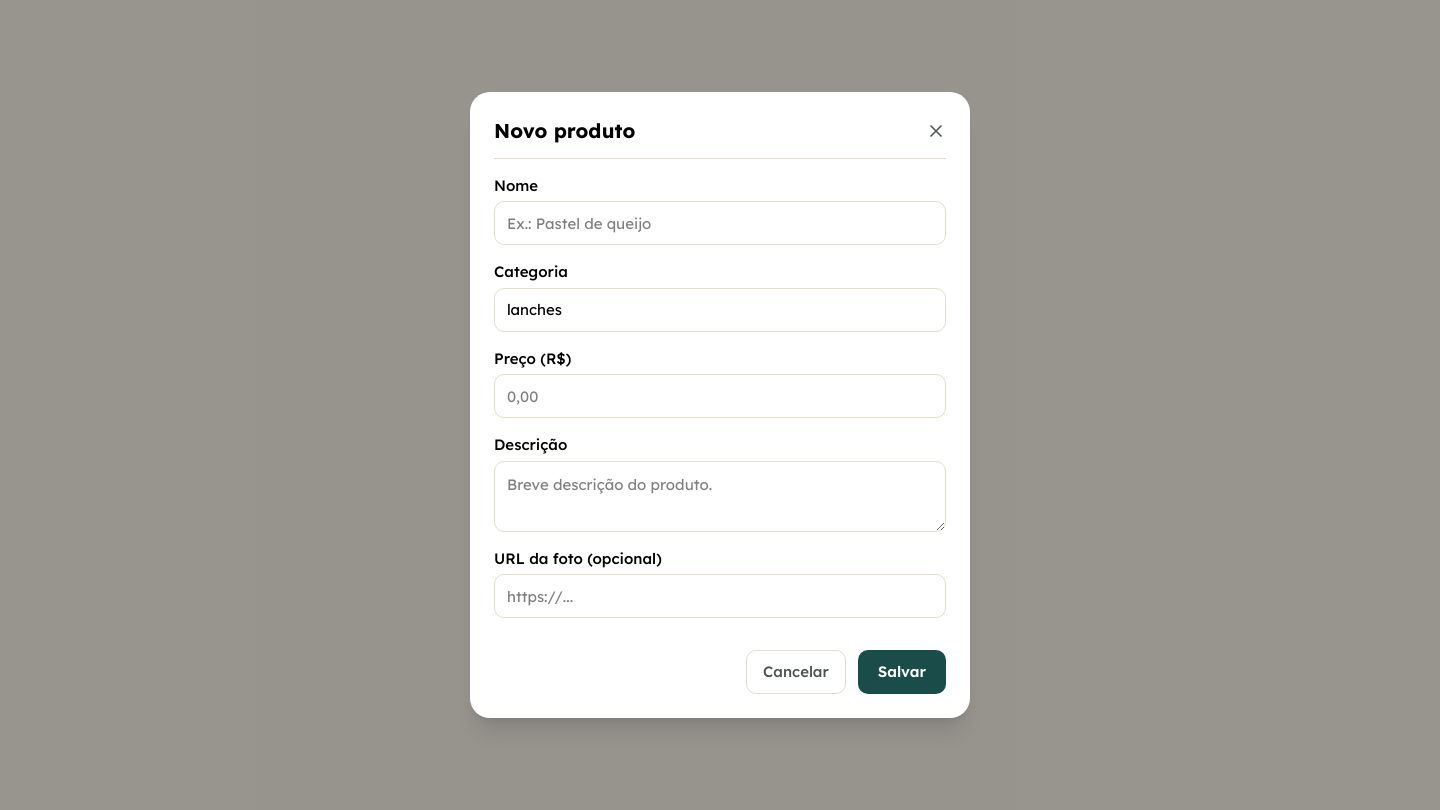
Scenario: ProductModal › validates empty name, empty category, and invalid price
Note: Clear and submit with empty name
Click the button "Salvar" at x=902, y=672, box top-left (858, 650), bottom-right (946, 694)
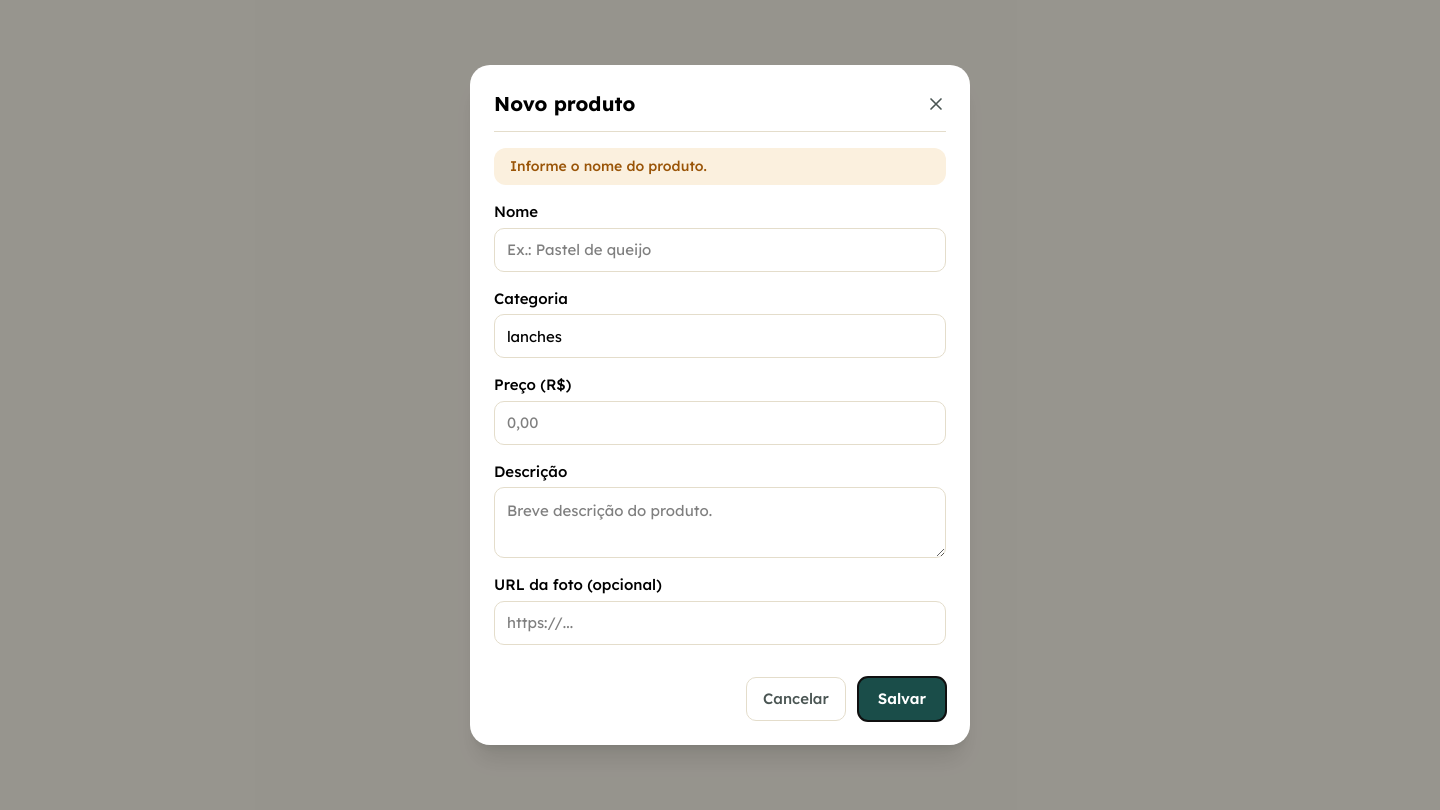
Expected: the message reads "Informe o nome do produto.", top-left (510, 157), bottom-right (707, 175)
Type "Pastel" into the field labelled "Nome" at x=720, y=250, box top-left (494, 228), bottom-right (946, 272)
Clear the field labelled "Categoria" at x=720, y=336, box top-left (494, 314), bottom-right (946, 358)
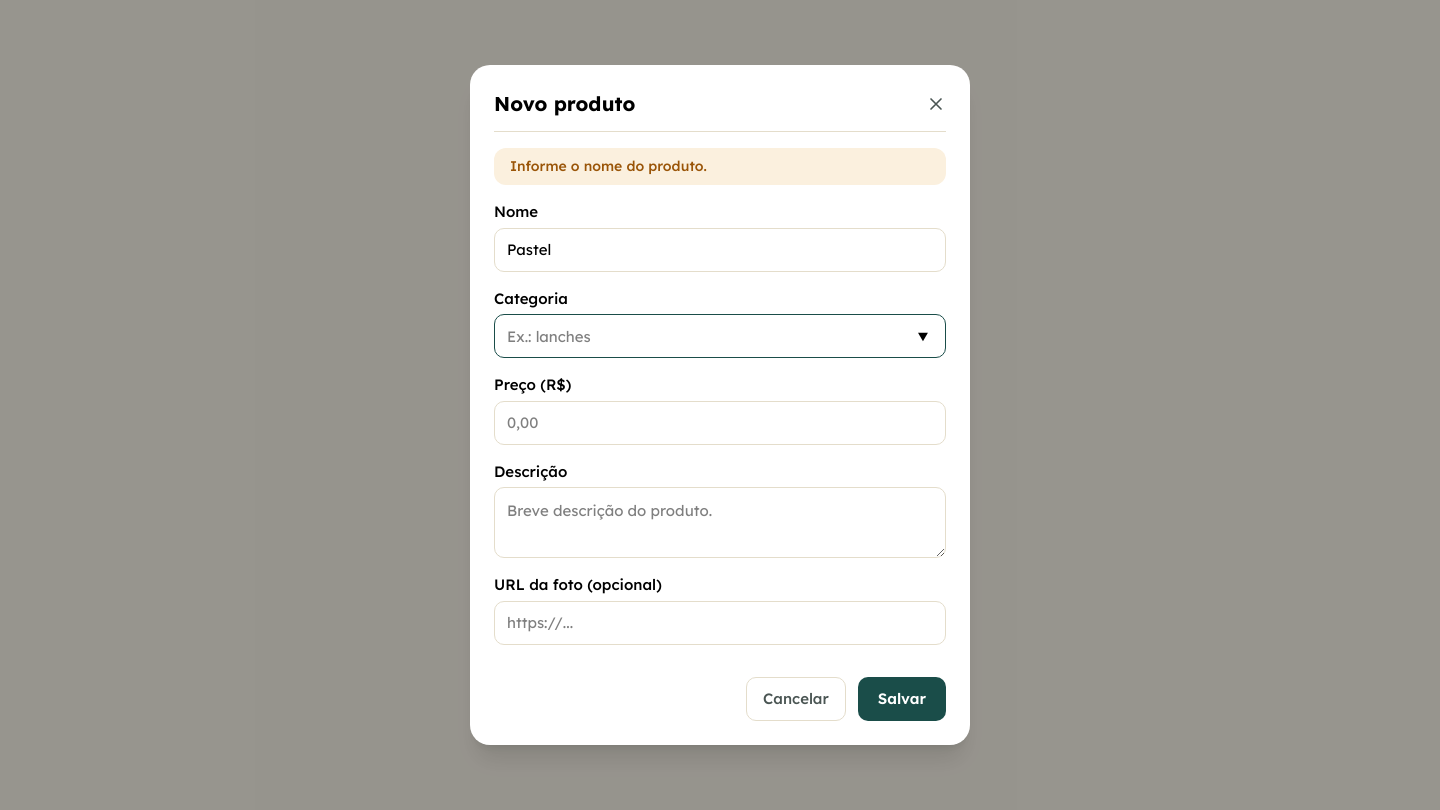
Click the button "Salvar" at x=902, y=699, box top-left (858, 677), bottom-right (946, 721)
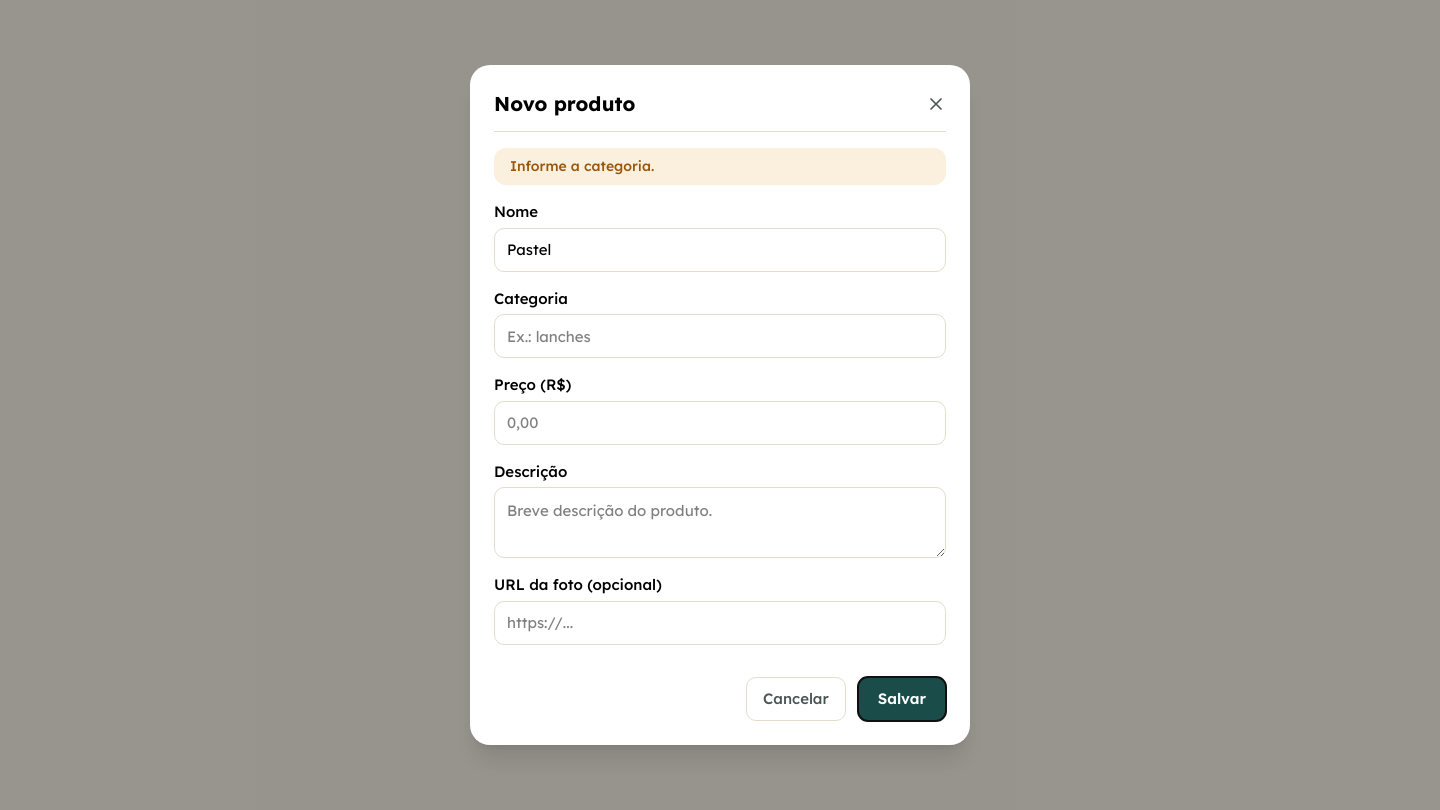
Expected: the message reads "Informe a categoria.", top-left (510, 157), bottom-right (654, 175)
Type "salgados" into the field labelled "Categoria" at x=720, y=336, box top-left (494, 314), bottom-right (946, 358)
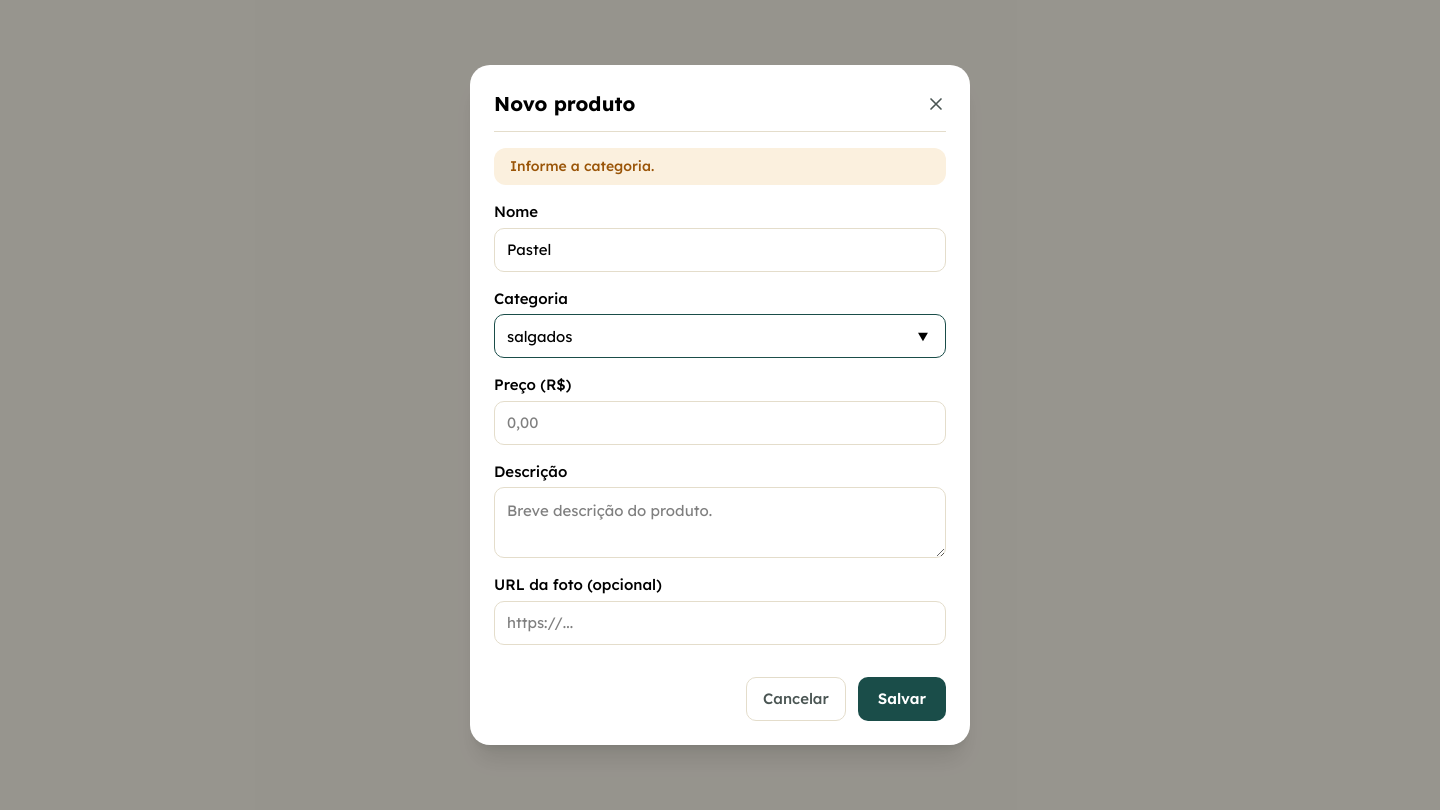
Type "invalido" into the field labelled "Preço (R$)" at x=720, y=423, box top-left (494, 401), bottom-right (946, 445)
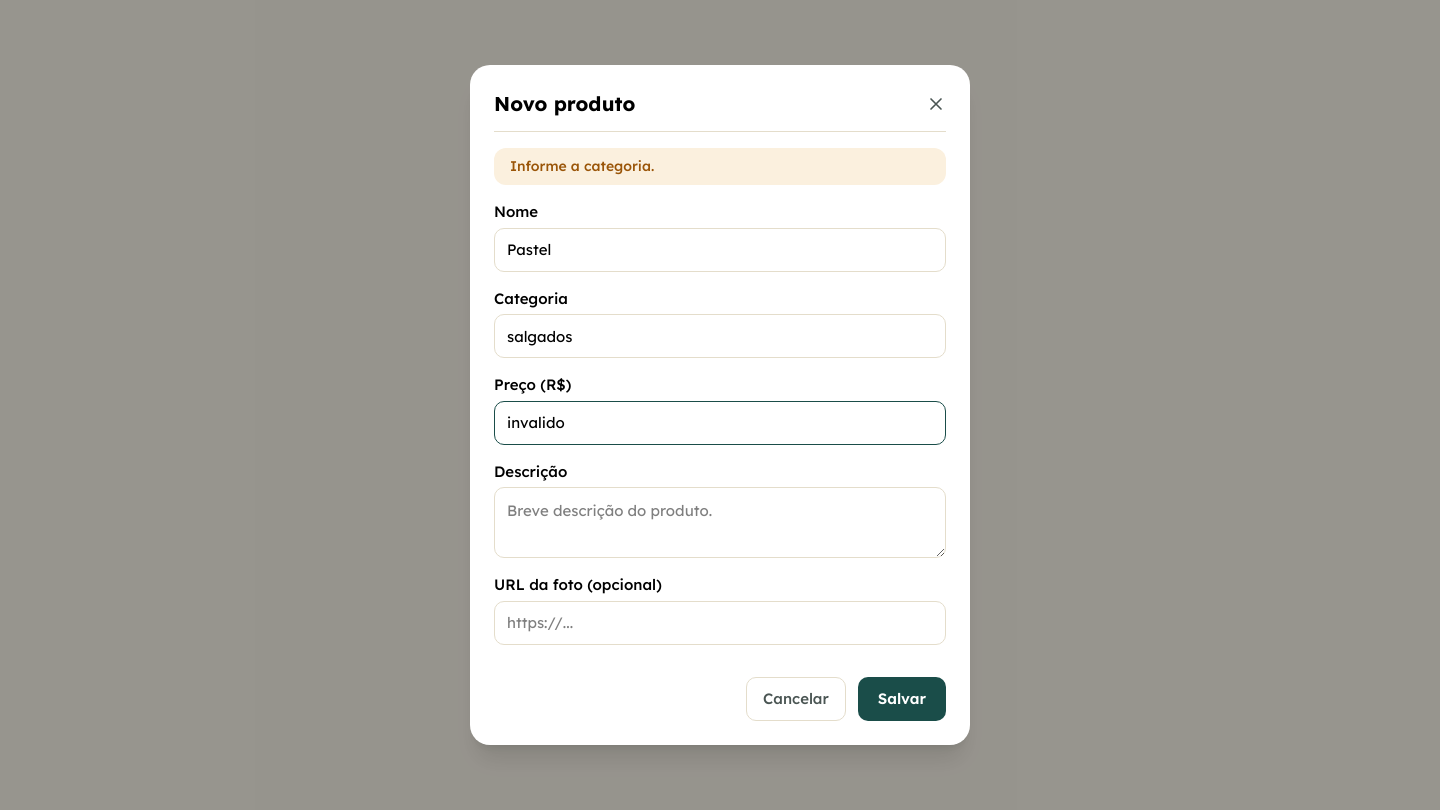
Click the button "Salvar" at x=902, y=699, box top-left (858, 677), bottom-right (946, 721)
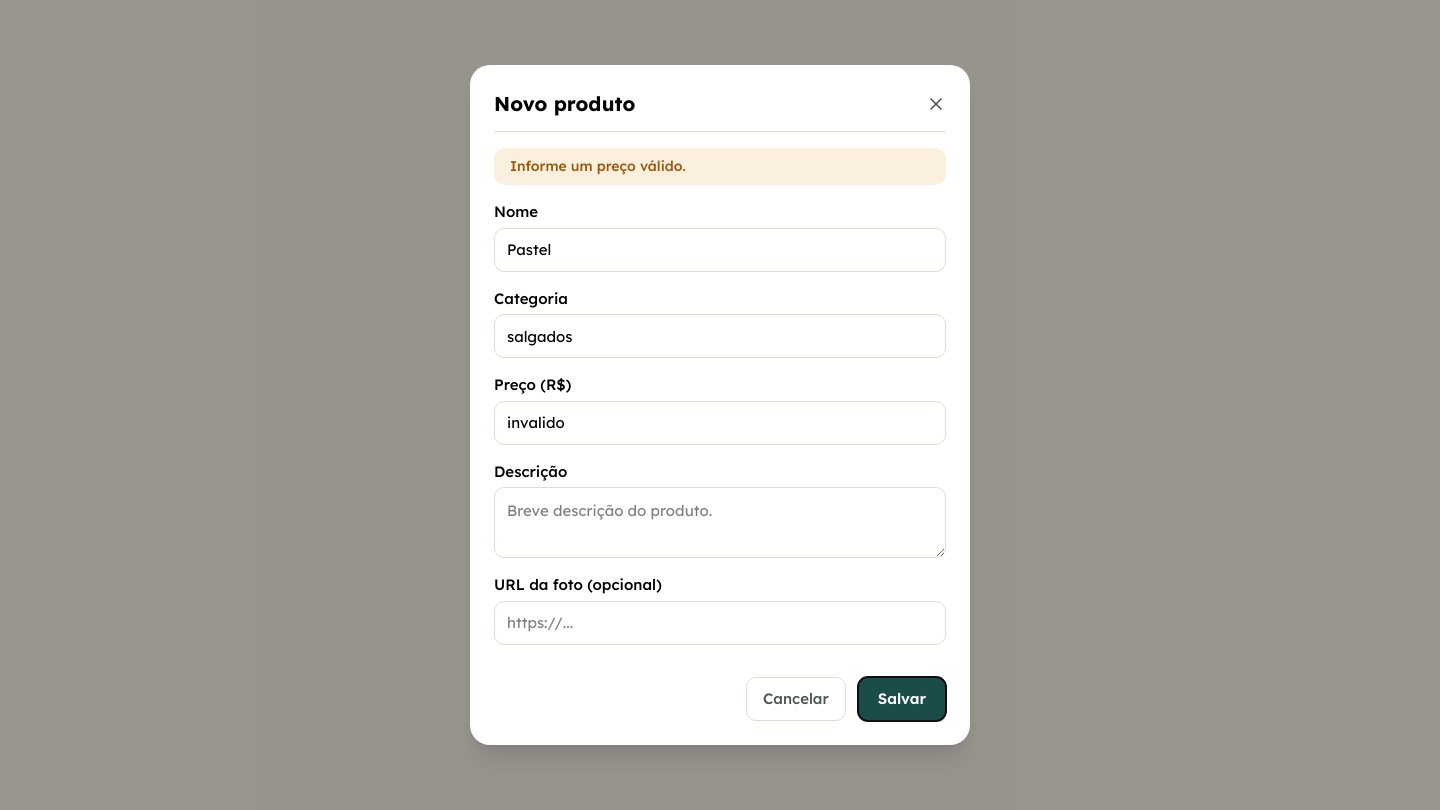
Expected: the message reads "Informe um preço válido.", top-left (510, 157), bottom-right (686, 175)
